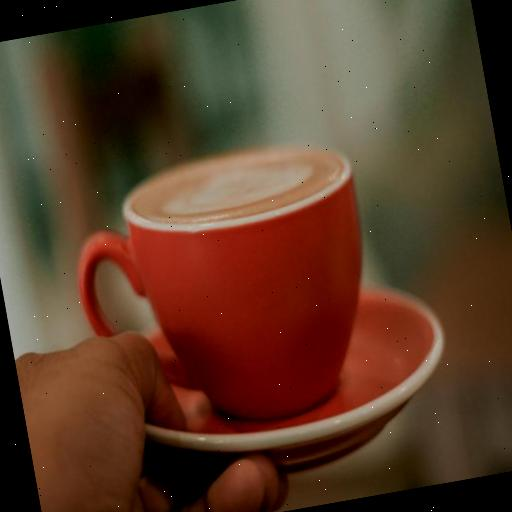cup: (60, 132, 392, 448)
